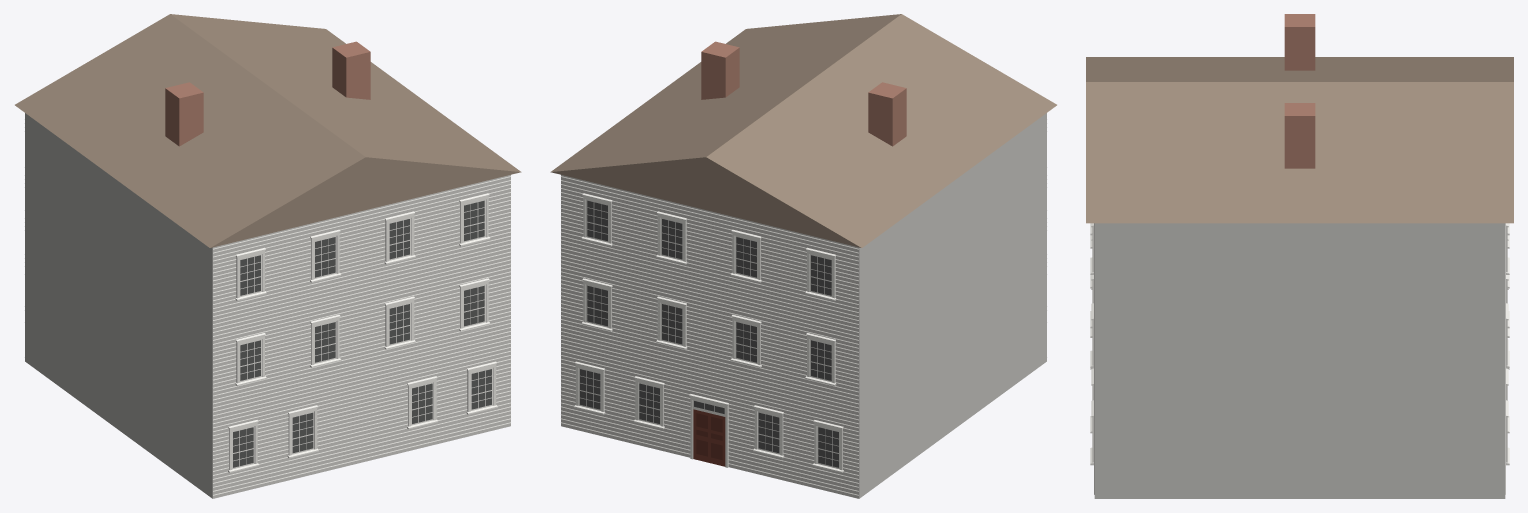
File: recon_1835_gifford_h3_019__inferred_1835.glb
The picture shows the model from 3 angles, left to right: view 1: azimuth 30°, elevation 25°; view 2: azimuth 150°, elevation 25°; view 3: azimuth 270°, elevation 25°; orthographic projection. The views are drawn at different scales.
Parts seen in each view (by area): view 1: recon_1835_gifford_h3_019__inferred_1835; view 2: recon_1835_gifford_h3_019__inferred_1835; view 3: recon_1835_gifford_h3_019__inferred_1835.
Part boxes in pixels (box(x1,y1,x2,y2)): recon_1835_gifford_h3_019__inferred_1835: box(15, 14, 521, 498); recon_1835_gifford_h3_019__inferred_1835: box(550, 14, 1056, 498); recon_1835_gifford_h3_019__inferred_1835: box(1086, 14, 1513, 498).
Bounding box in the file's own units: 11.5 × 11.42 × 12.5.
